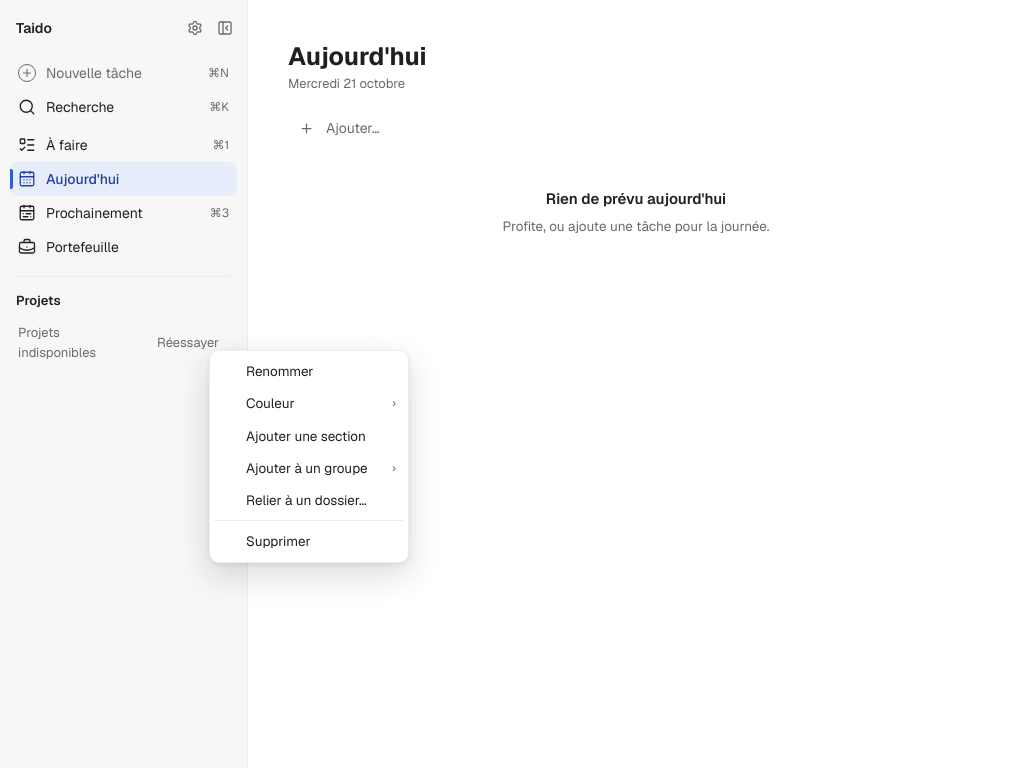
Sidebar projects › shows « Projets indisponibles » with Réessayer when the list fails
The width and height of the screenshot is (1024, 768).
expect the text "Projets indisponibles" is shown: met, box [18, 324, 96, 360]
Click the button "Réessayer" at (188, 342), box [147, 328, 229, 356]
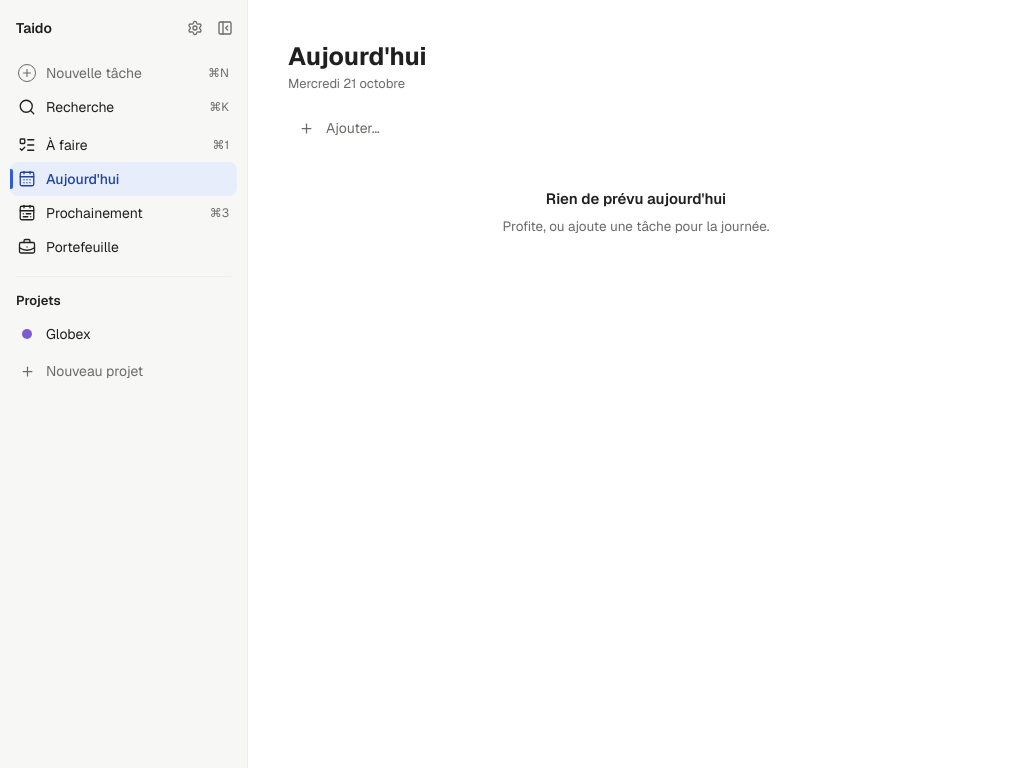
expect the button "Globex" is shown: met, box [10, 317, 237, 351]
